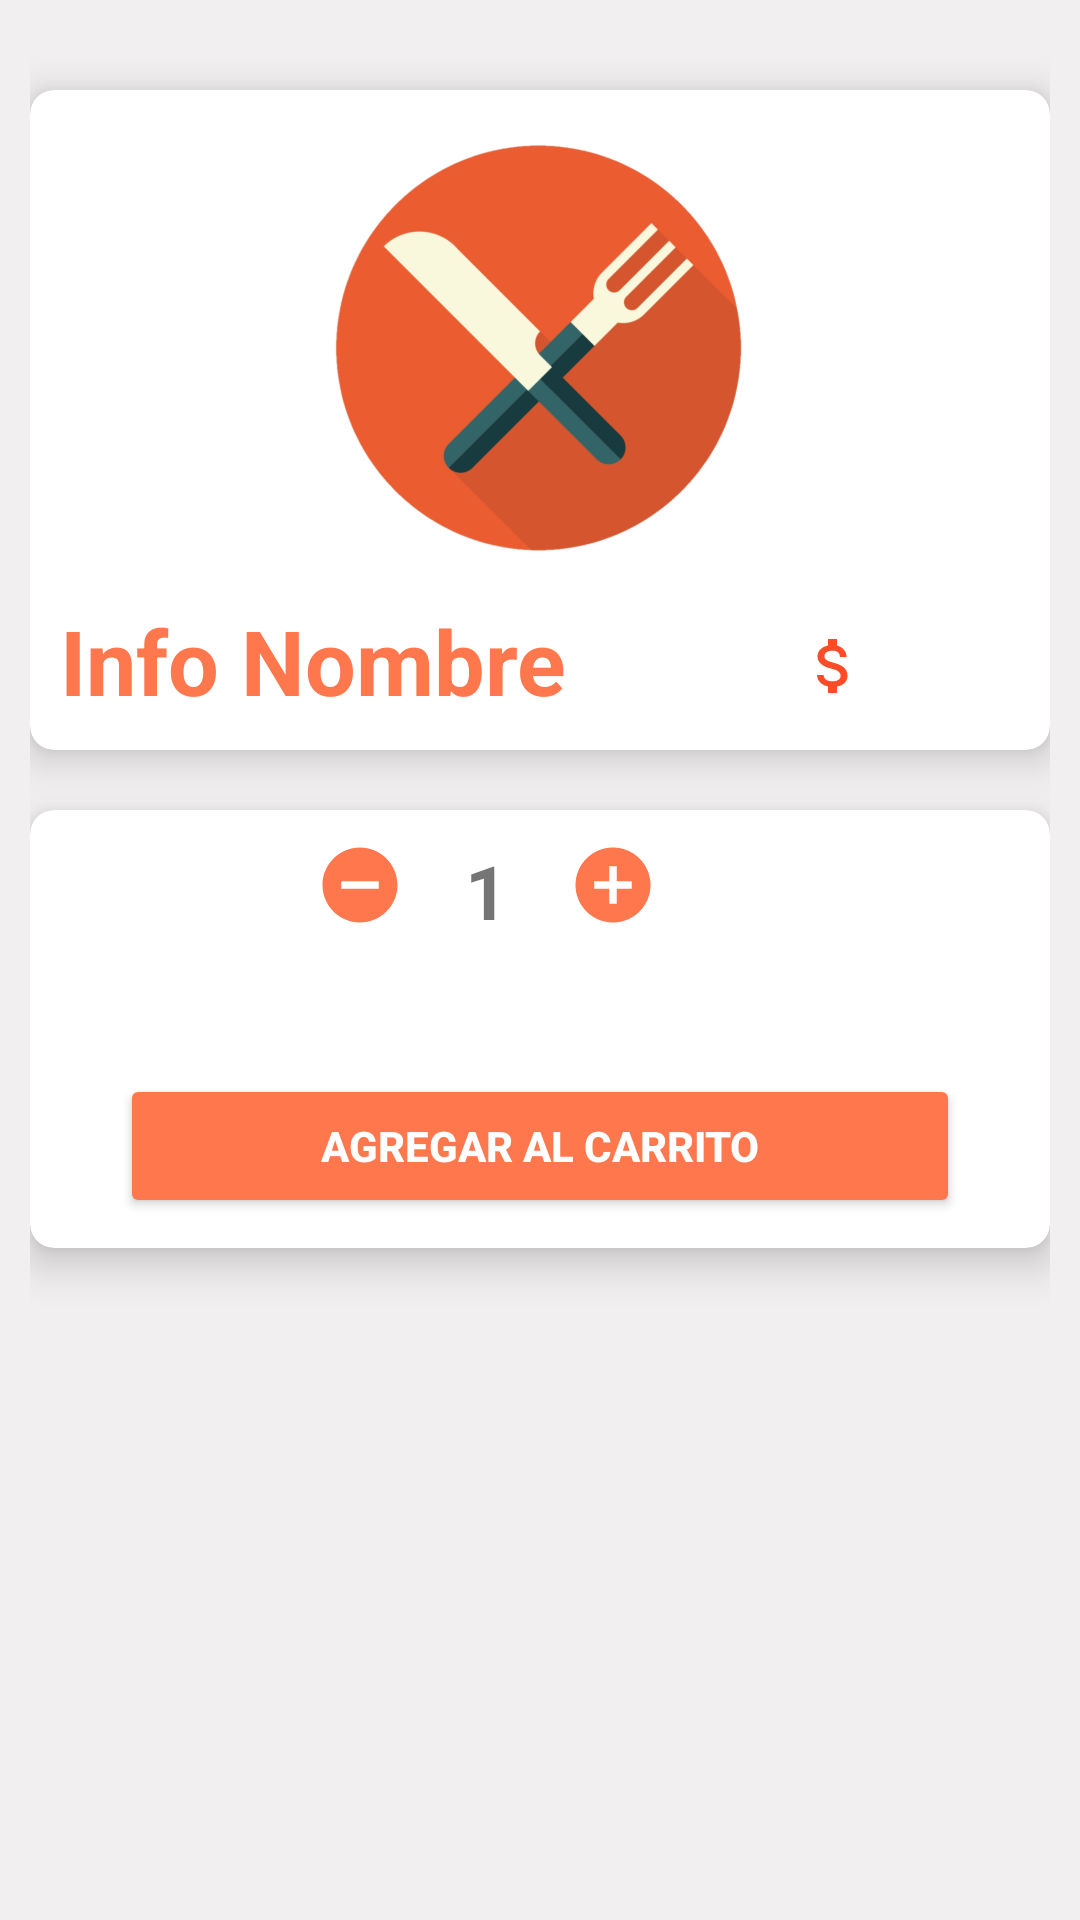

Icon click points for this 1080x1920 phone screenshot, format (x,y):
mas: (613,885)
menos: (360,885)
